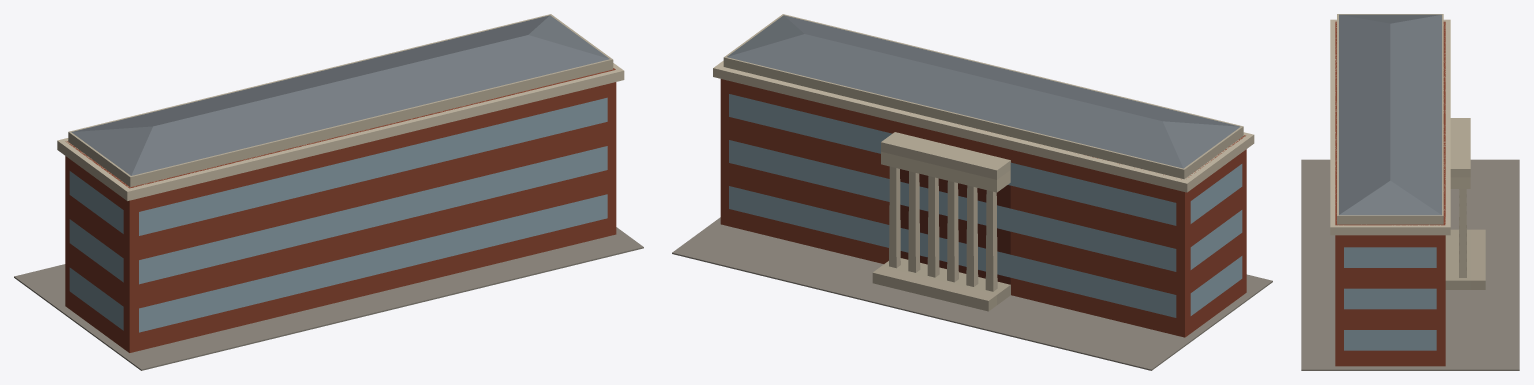
3 views of the same model, side by side, from view 1: azimuth 30°, elevation 25°; view 2: azimuth 150°, elevation 25°; view 3: azimuth 270°, elevation 25° (orthographic). The views are drawn at different scales.
Parts seen in each view (by area): view 1: queens-borough-hall-lod2; view 2: queens-borough-hall-lod2; view 3: queens-borough-hall-lod2.
Part boxes in pixels (left/top/right/bottom): queens-borough-hall-lod2: left=14, top=14, right=643, bottom=370; queens-borough-hall-lod2: left=672, top=14, right=1272, bottom=370; queens-borough-hall-lod2: left=1301, top=14, right=1519, bottom=370.
Bounding box in the file's own units: 114 × 41.4 × 50.01.
